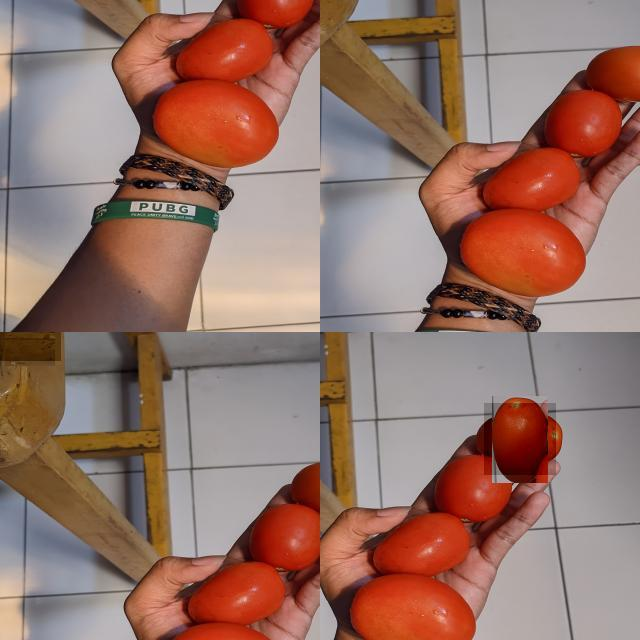Fresh Tomato: (344, 572, 476, 640), (369, 512, 472, 576), (427, 453, 515, 523), (484, 403, 556, 475), (0, 332, 61, 360)
